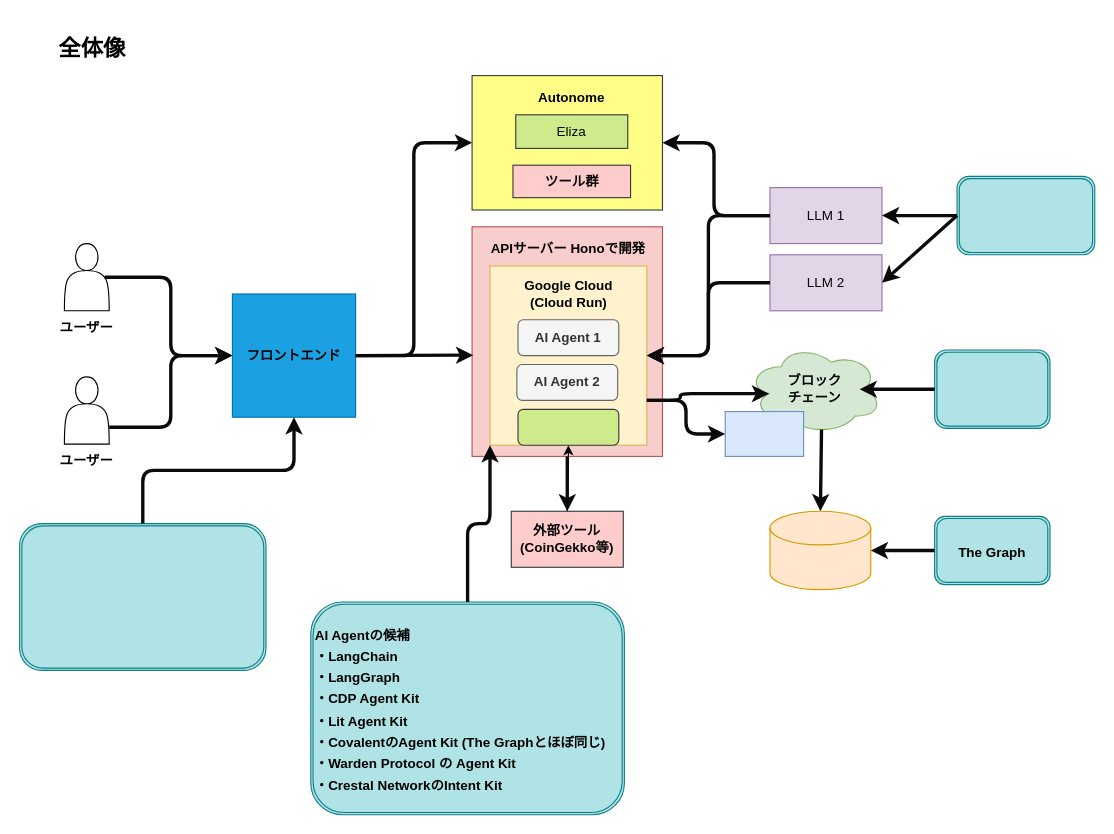
This 1114x834 diagram has some shape labels left out. Here are the shapes that lost their labels. From the top down, the centre of each, then its label:
At [1025,215]: "Gaia Gemini in vertex AI Open AI".
At [992,388]: "Arbitrum Base Flow".
At [568,426]: "その他ロジック".
At [764,433]: "スマコン".
At [820,550]: "Indexer".
At [142,596]: "ライブストリーミング ライクなフロントエンド Next.jsを使う。 ウォレットは Privyを使う？？ それとも OnChain Kit 使う？？".
